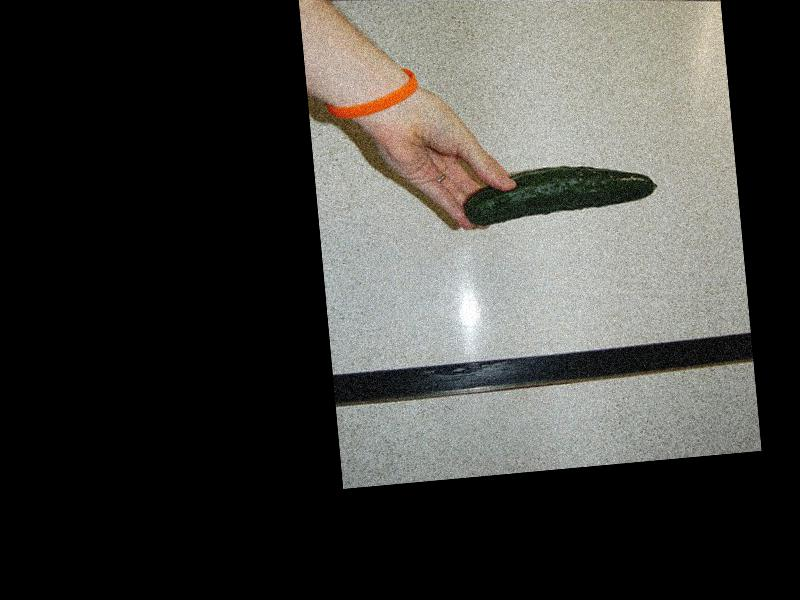Cucumber: (460, 159, 660, 227)
